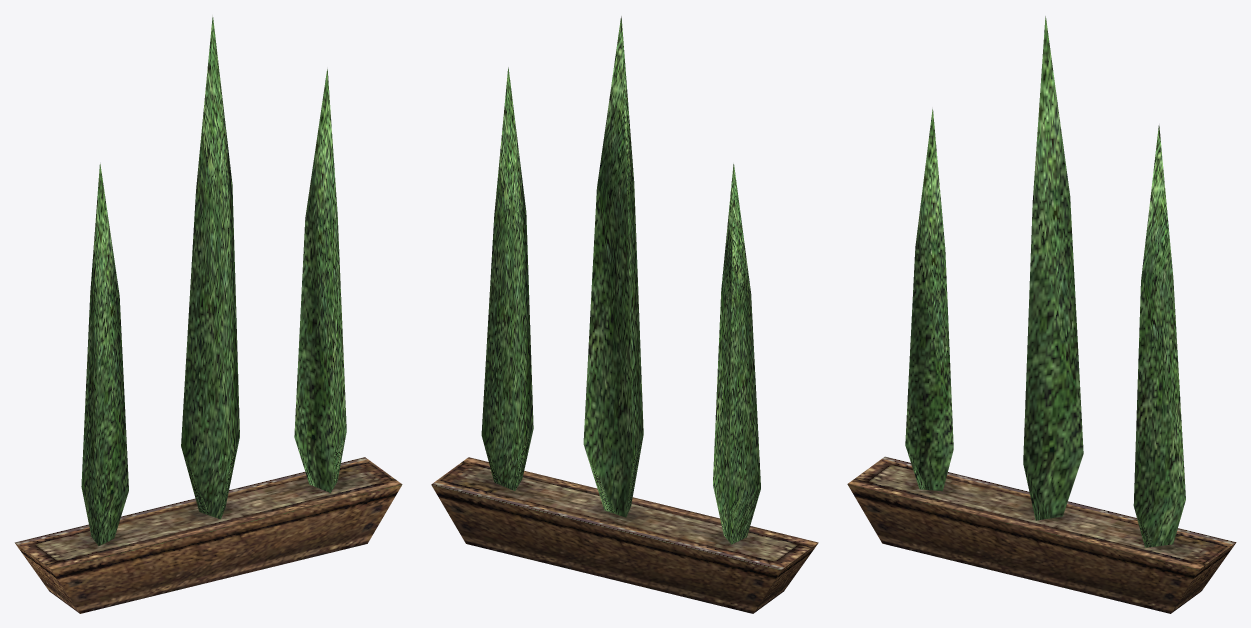
The model's file is wrld_cypress_row_a.glb.
3 views of the same model, side by side, from view 1: azimuth 30°, elevation 25°; view 2: azimuth 150°, elevation 25°; view 3: azimuth 330°, elevation 25° (orthographic).
Parts seen in each view (by area): view 1: wrld_cypress_row_a; view 2: wrld_cypress_row_a; view 3: wrld_cypress_row_a.
Part boxes in pixels (box(x1,y1,x2,y2)): wrld_cypress_row_a: box(14, 14, 402, 613); wrld_cypress_row_a: box(431, 15, 818, 613); wrld_cypress_row_a: box(847, 15, 1236, 613).
Size of the model in its own units: 6.4 by 9.65 by 1.22.
Materials: 1 (1 with a texture image).
